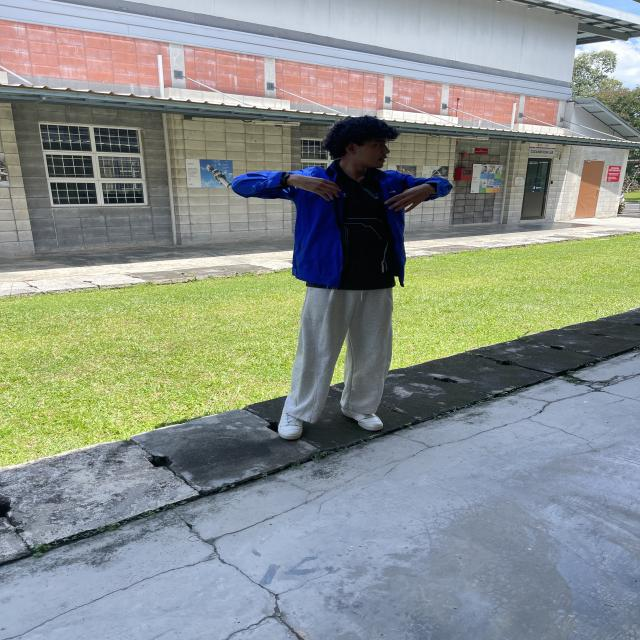person_with_labcoat: (232, 116, 451, 440)
